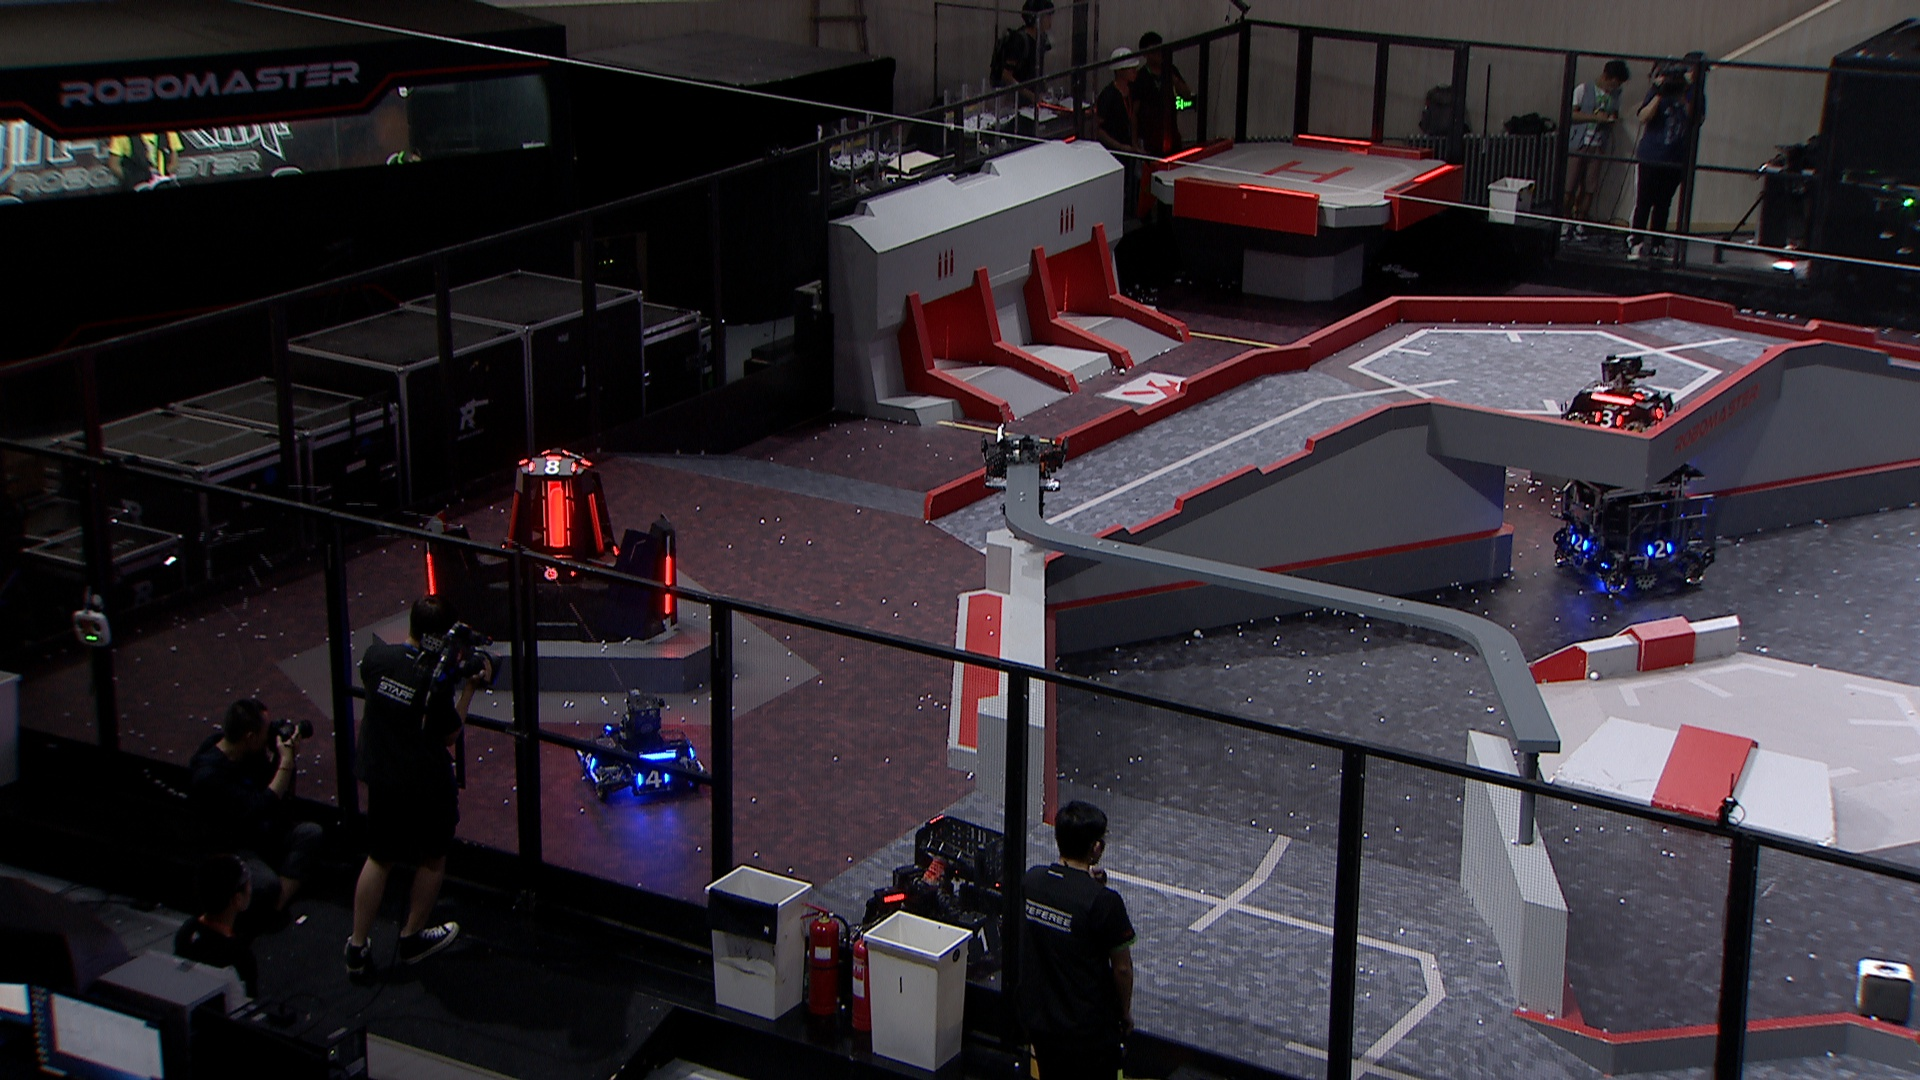armor: (543, 484, 570, 553), (960, 920, 1002, 953), (504, 489, 520, 551), (585, 495, 603, 550), (531, 560, 576, 582), (524, 458, 578, 475), (659, 553, 673, 617), (633, 766, 670, 787), (425, 550, 438, 597), (1640, 542, 1673, 560), (1593, 410, 1621, 429), (1564, 533, 1590, 551), (1656, 400, 1673, 423), (1631, 384, 1655, 400), (582, 750, 596, 770)
base: (415, 446, 678, 642)
car: (858, 808, 1036, 989), (1551, 450, 1718, 597), (575, 688, 713, 802), (1557, 349, 1683, 443)
watcher: (977, 422, 1067, 524)
